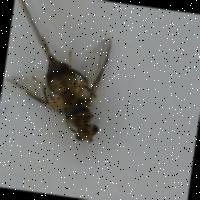Oriental-fruit-fly: (0, 13, 131, 157)
